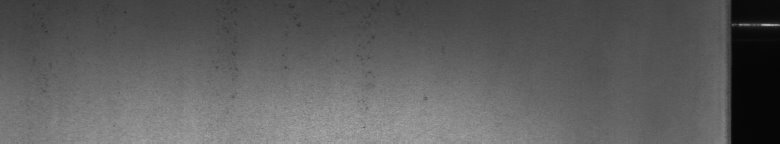ib: (231, 5, 301, 99)
